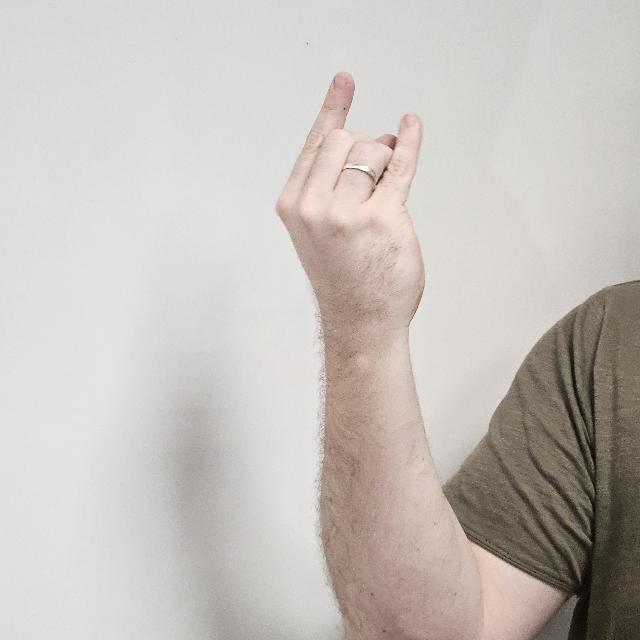L: (272, 68, 428, 346)
